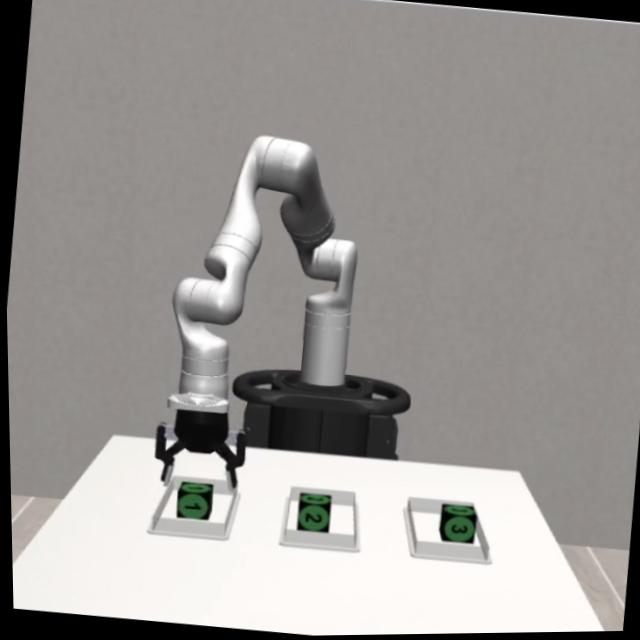cube1: (171, 480, 212, 522)
cube2: (293, 492, 329, 534)
cube3: (434, 501, 475, 546)
